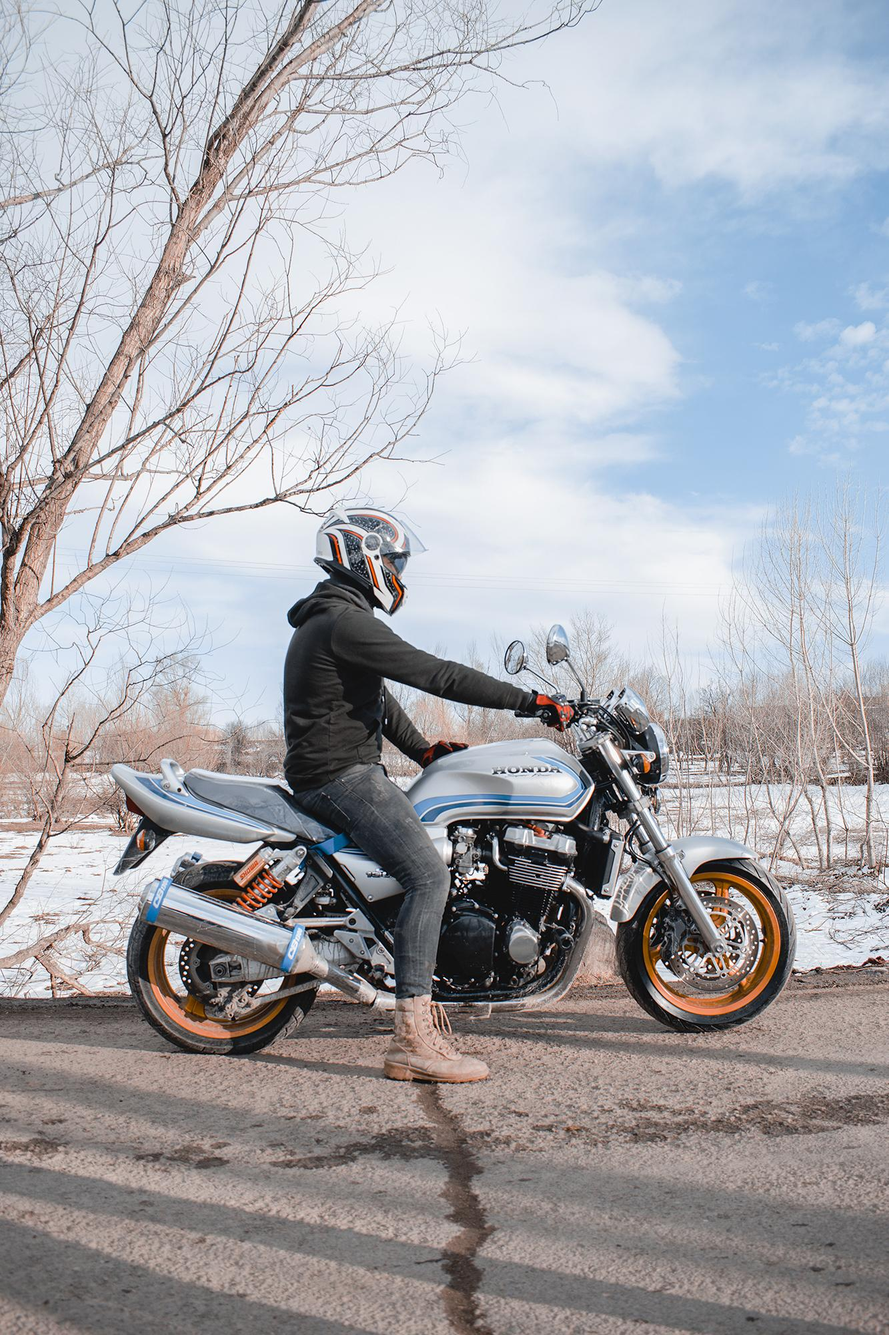helmet: (312, 505, 430, 618)
